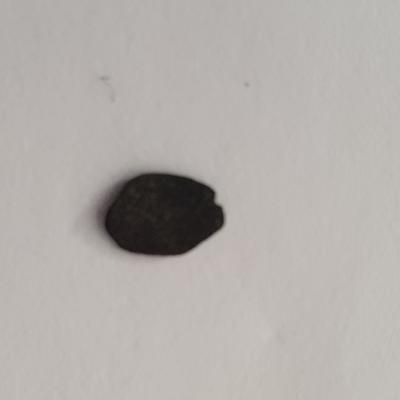plastic: (96, 169, 229, 263)
